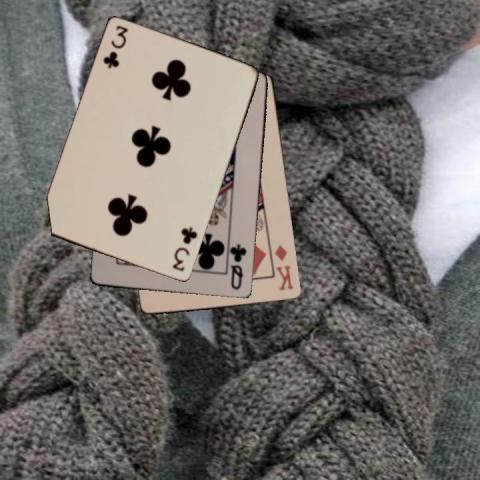3c: (170, 224, 200, 273), (100, 22, 130, 70)
Kd: (272, 241, 296, 292)
Qc: (227, 241, 248, 292)
